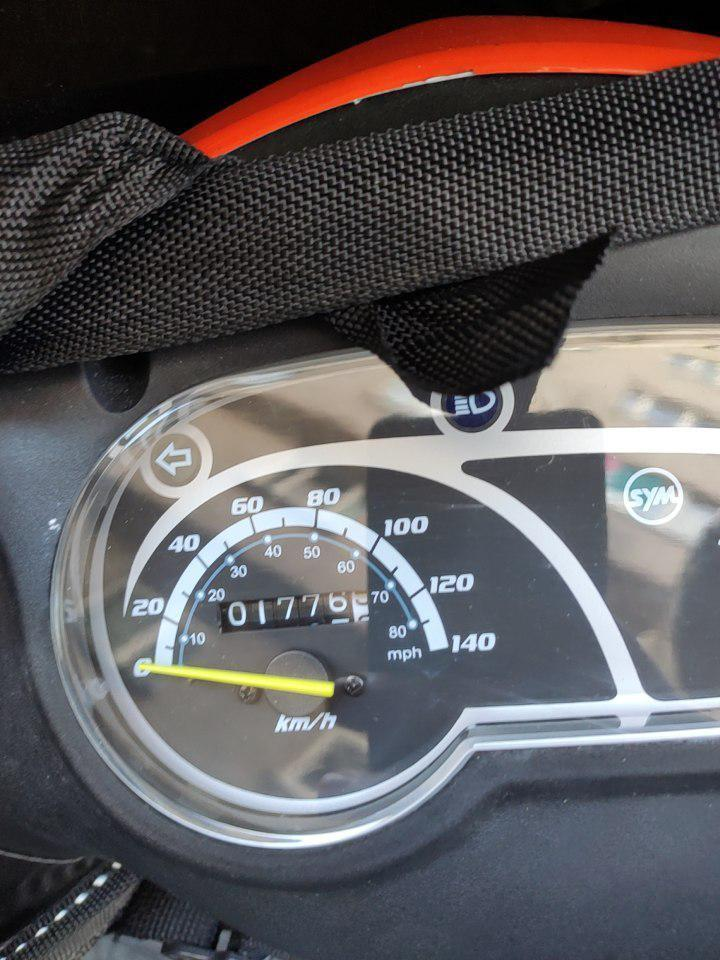0: (225, 599, 248, 627), (216, 588, 225, 601)
1: (252, 597, 269, 625)
5: (353, 589, 371, 606)
6: (327, 590, 348, 614)
7: (299, 590, 321, 619), (275, 593, 296, 622)
odometer: (215, 585, 372, 635)
